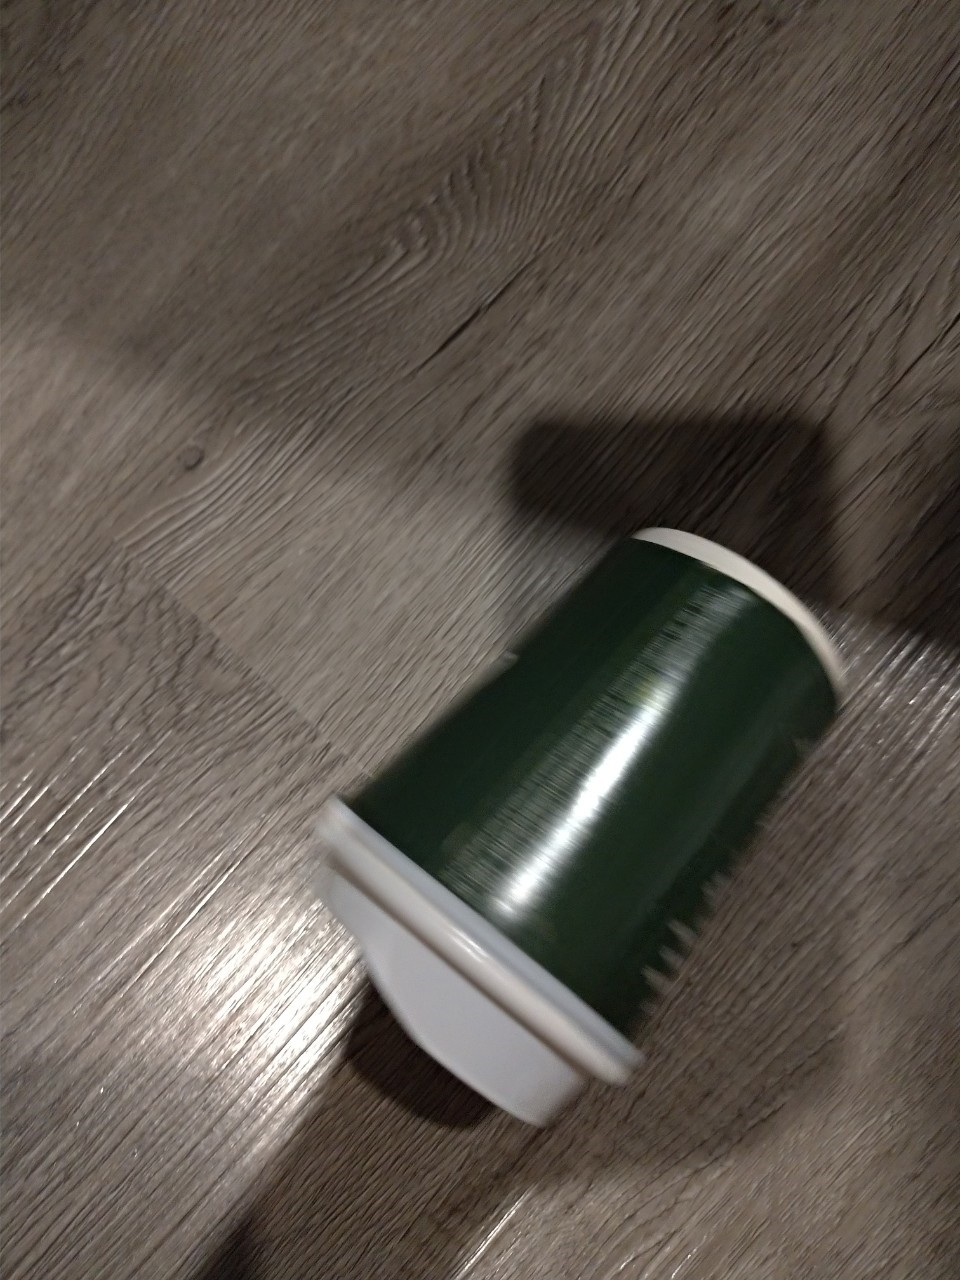PaperCup: (318, 523, 838, 1121)
